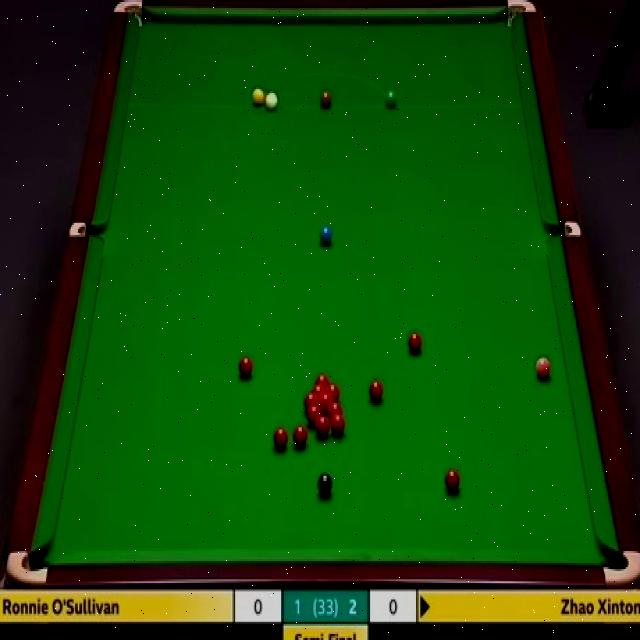black-ball: (317, 471, 333, 497)
blue-ball: (319, 225, 332, 243)
brown-ball: (319, 91, 332, 108)
green-ball: (384, 87, 399, 111)
pink-ball: (534, 355, 550, 379)
red-ball: (368, 378, 383, 405), (444, 469, 460, 492), (274, 424, 288, 450), (292, 425, 306, 451), (316, 415, 332, 437), (239, 356, 253, 380), (408, 331, 421, 355), (320, 392, 334, 414), (307, 403, 320, 426), (303, 393, 319, 410), (325, 383, 339, 402), (331, 416, 344, 436), (328, 403, 343, 419), (310, 383, 326, 395), (315, 372, 330, 384)
white-ball: (266, 92, 278, 112)
yellow-ball: (253, 88, 264, 109)
